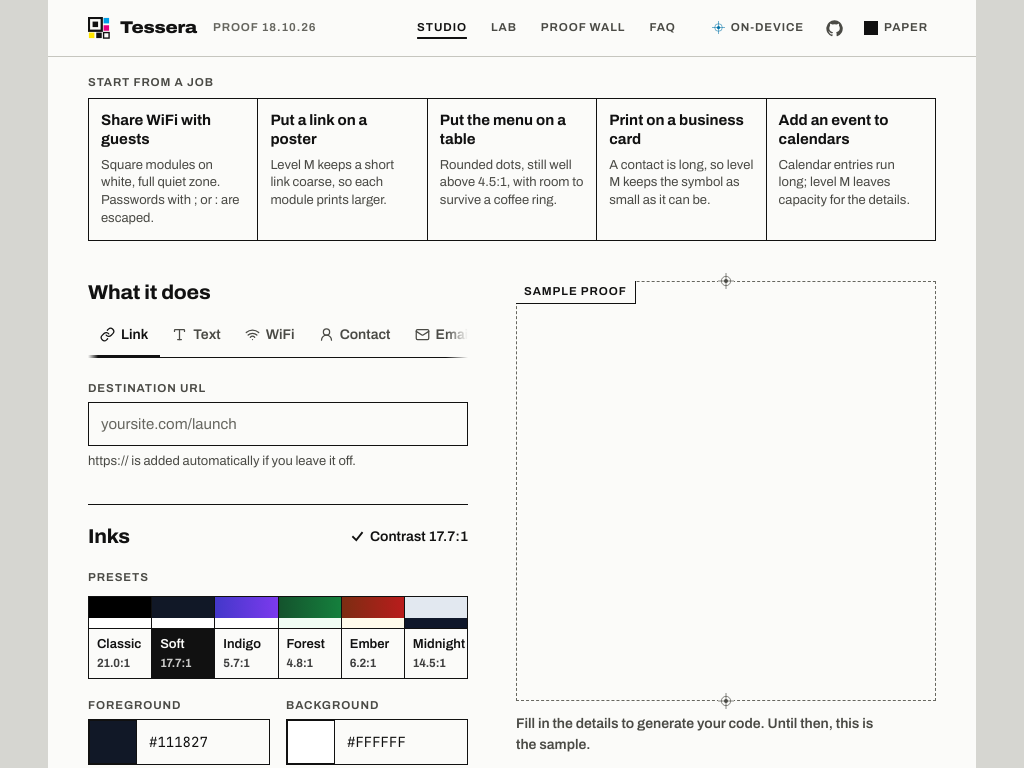
Test: App › enables the download once valid content is entered
(page scrolled)
Type "example.com" into the field labelled "Destination URL".
click(278, 424); type("example.com")  # box top-left (88, 402), bottom-right (468, 446)
(page scrolled)
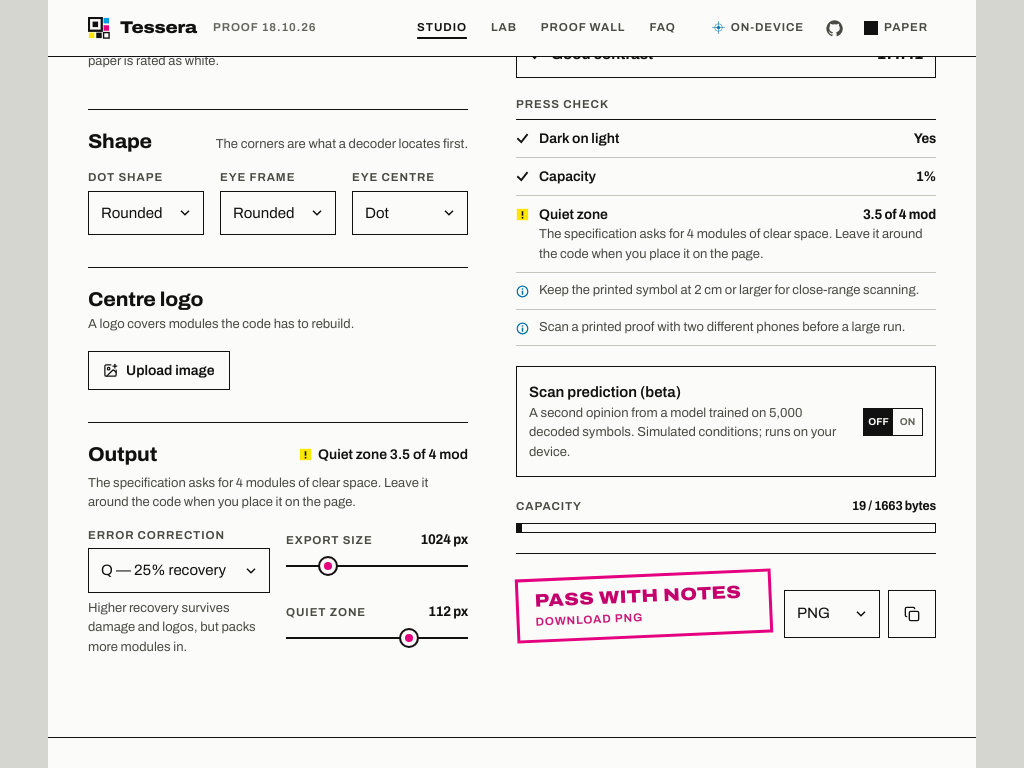
Expected: the button "Pass with notes Download PNG" is enabled, top-left (515, 568), bottom-right (773, 643)
Result: the text "Fill in the details" is gone
